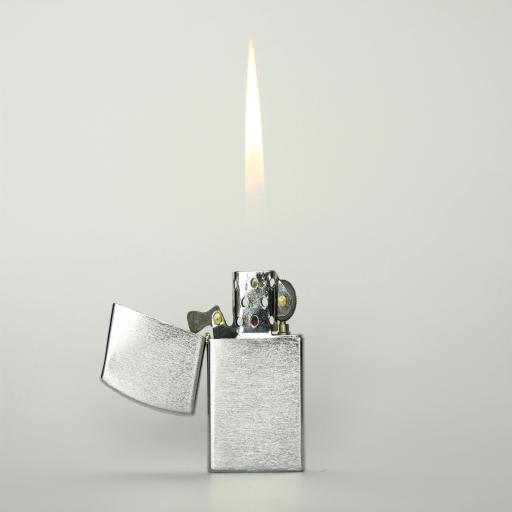fire: (231, 27, 288, 225)
lighter: (86, 58, 354, 486)
